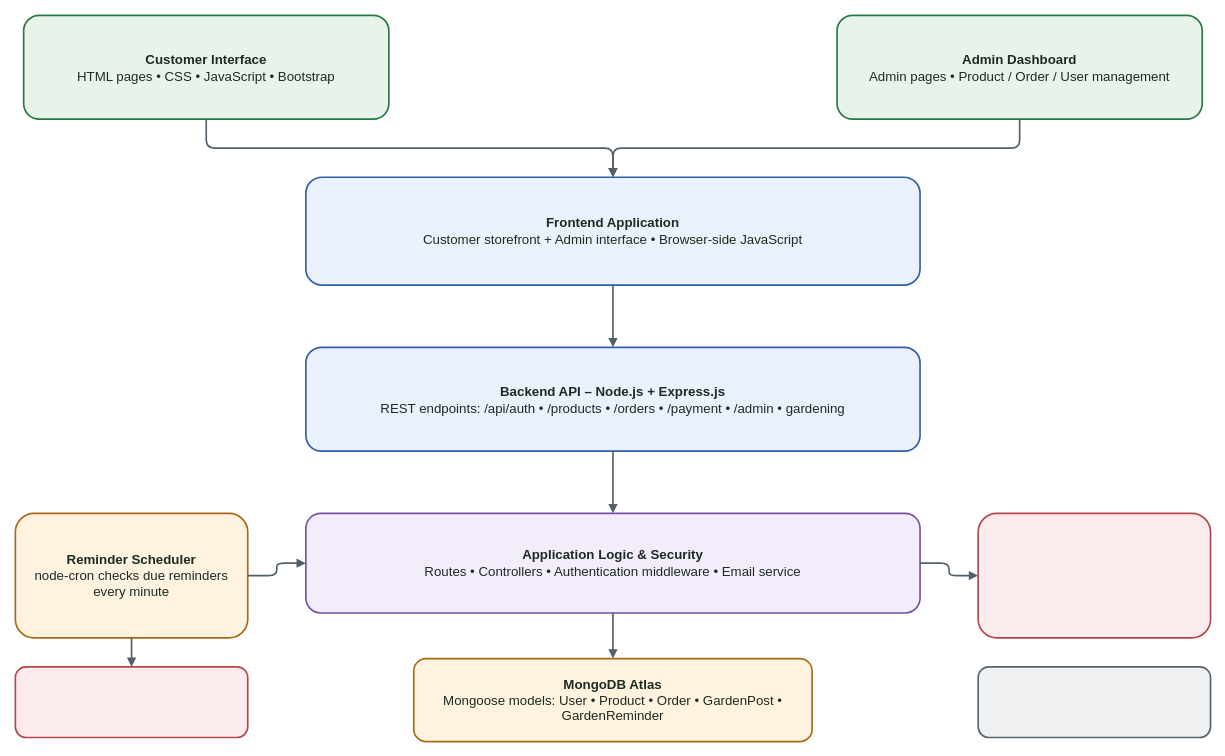
Some shapes in this 1225 by 756 pixel diagram are drawn without their labels. Each missing label, with the centre of its shape:
Deployment Frontend + backend hosted on Render: [1094,702]
Email Service Sends garden reminder emails: [131,702]
Payment Integration Payment routes /api/payment Provider details to be verified: [1094,575]
